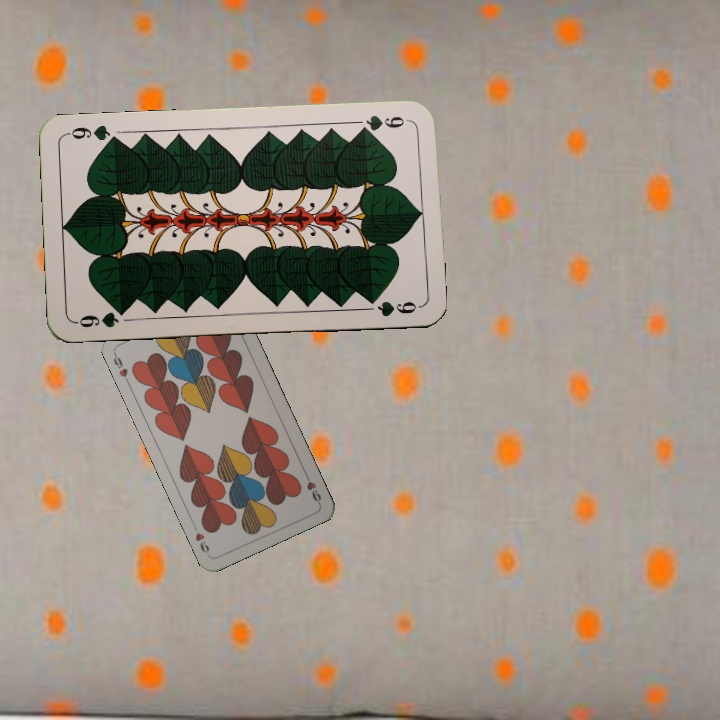G9: (72, 305, 130, 330), (353, 111, 412, 135)
H9: (300, 468, 324, 506), (109, 348, 132, 387)
